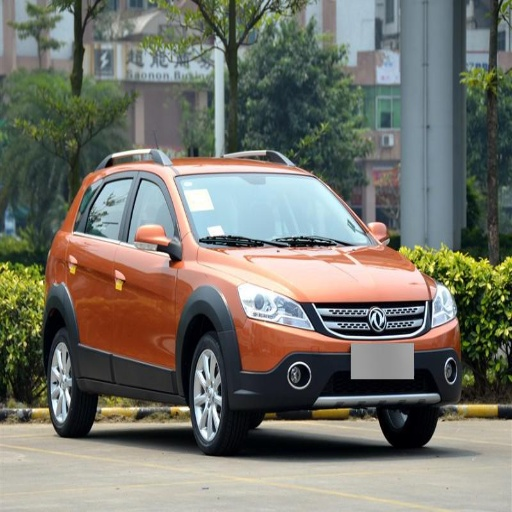front_bumper: (233, 301, 458, 415)
front_right_door: (114, 171, 182, 391)
front_right_light: (239, 282, 312, 329)
hood: (211, 241, 433, 303)
